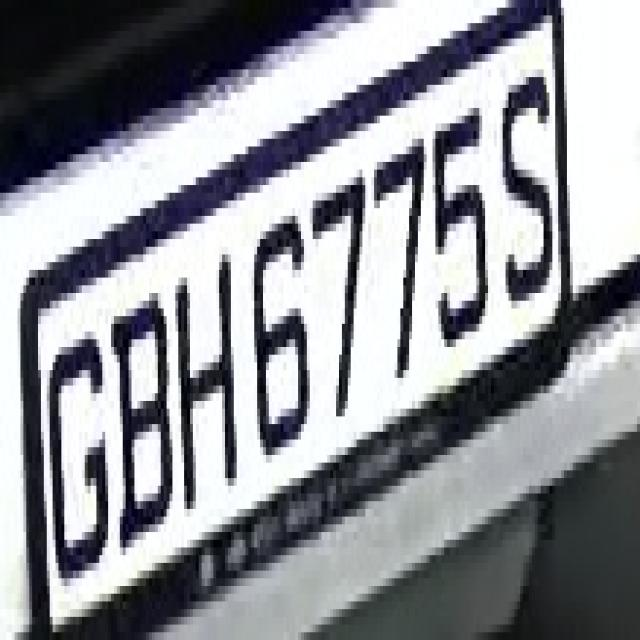5: (421, 124, 491, 394)
6: (242, 208, 304, 486)
7: (298, 154, 365, 509), (368, 146, 436, 440)
B: (102, 262, 181, 571)
G: (41, 332, 108, 594)
H: (172, 255, 242, 532)
S: (485, 62, 567, 308)
